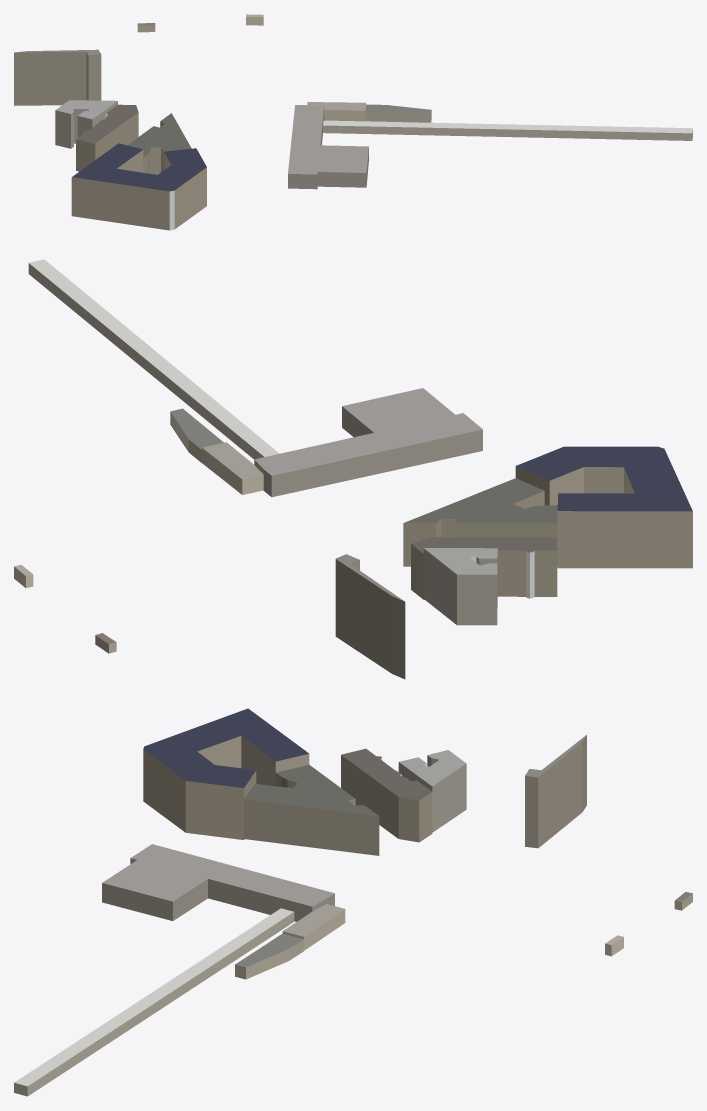
3 renders of one model, top to bottom at view 1: azimuth 30°, elevation 25°; view 2: azimuth 150°, elevation 25°; view 3: azimuth 270°, elevation 25°, orthographic. The views are drawn at different scales.
Visible parts, largest first — view 1: tuile; view 2: tuile; view 3: tuile.
Boxes of the visible parts, bbox=[...] form: tuile: bbox=[14, 14, 692, 230]; tuile: bbox=[14, 259, 692, 679]; tuile: bbox=[14, 708, 692, 1096].
Size of the model in its own units: 344 by 32.63 by 283.
